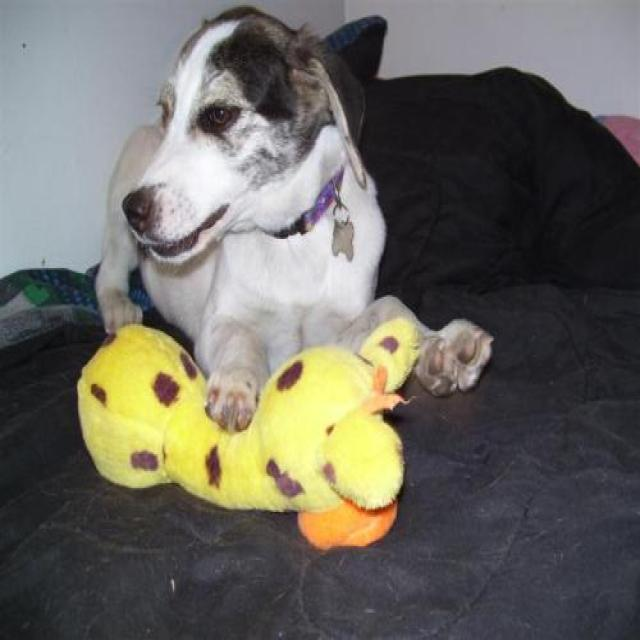dogs: (96, 5, 493, 442)
